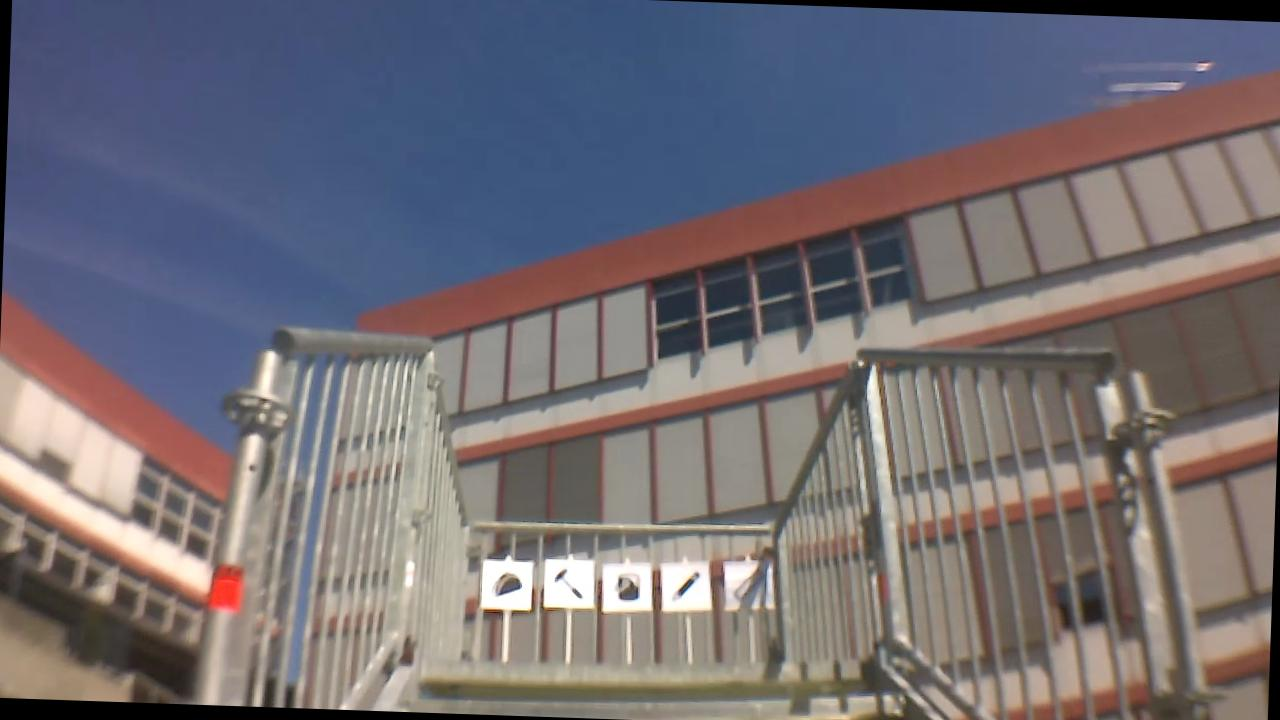edge: (421, 636, 878, 695), (388, 677, 909, 720)
stairs: (214, 295, 1234, 720)
